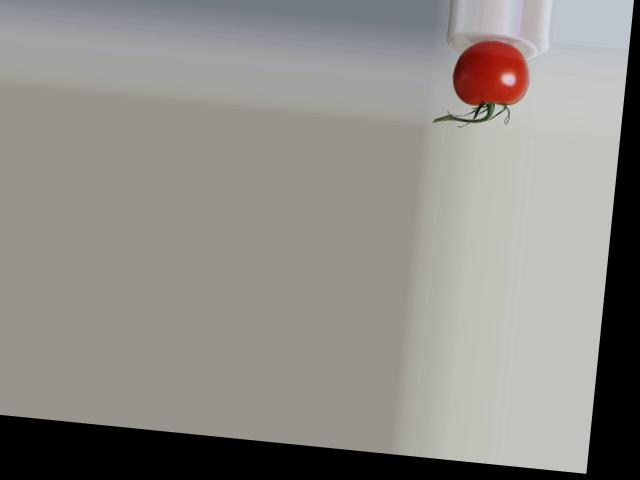tomato: (449, 37, 532, 110)
